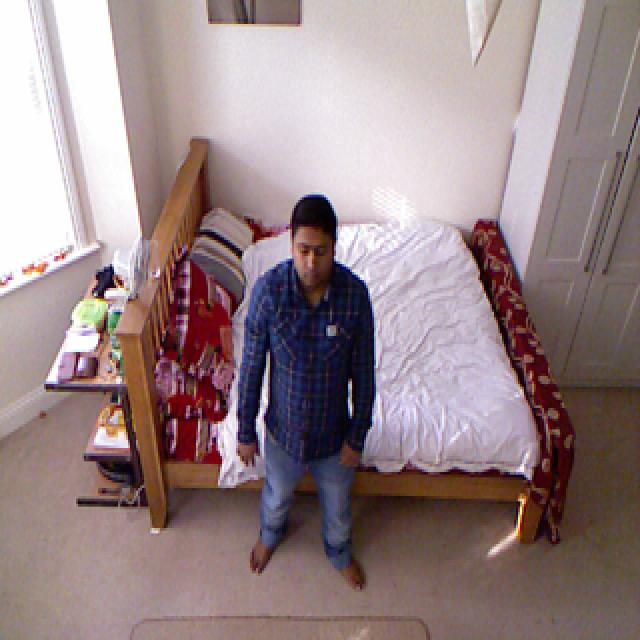standing: (238, 195, 376, 577)
